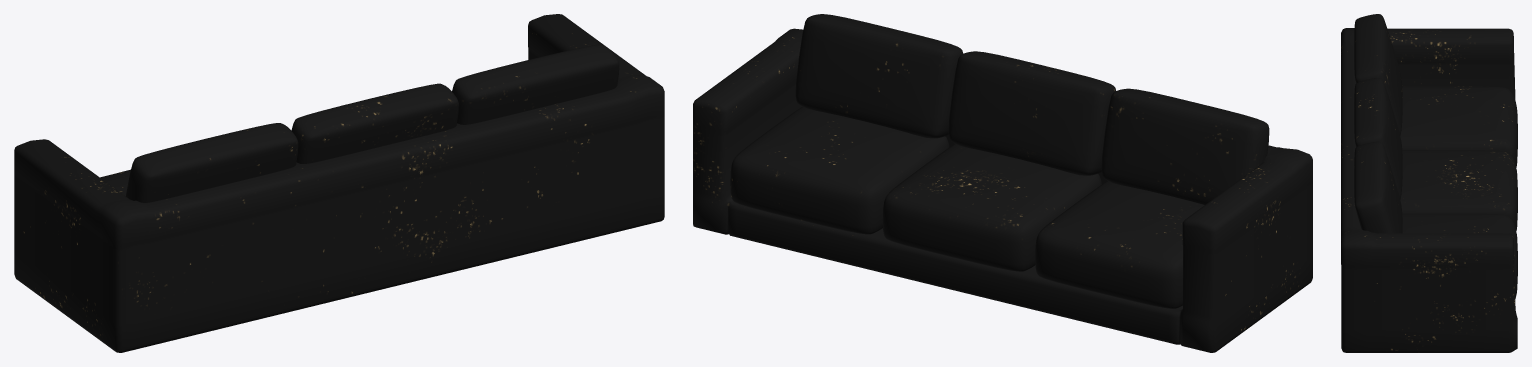
File: sofa.fbx
3 views of the same model, side by side, from view 1: azimuth 30°, elevation 25°; view 2: azimuth 150°, elevation 25°; view 3: azimuth 270°, elevation 25° (orthographic). The views are drawn at different scales.
Visible parts, largest first — view 1: sofa, Cube.003; view 2: Cube.002, sofa, Cube.003; view 3: sofa, Cube.002, Cube.003.
Boxes of the visible parts, x1,y1,x2,y2 form: sofa: (14,14,664,352); Cube.003: (126,44,619,202); Cube.002: (730,106,1204,308); sofa: (693,28,1312,352); Cube.003: (795,14,1269,204); sofa: (1341,28,1517,352); Cube.002: (1400,86,1517,298); Cube.003: (1354,14,1402,233).
Bounding box in the file's own units: 311 × 93.43 × 106.
1 material, 1 textured.
